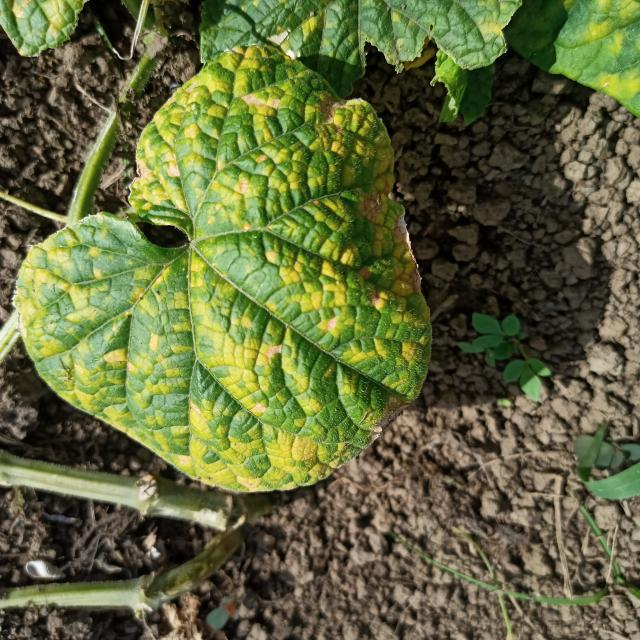disease_cucumber: (19, 62, 417, 500)
